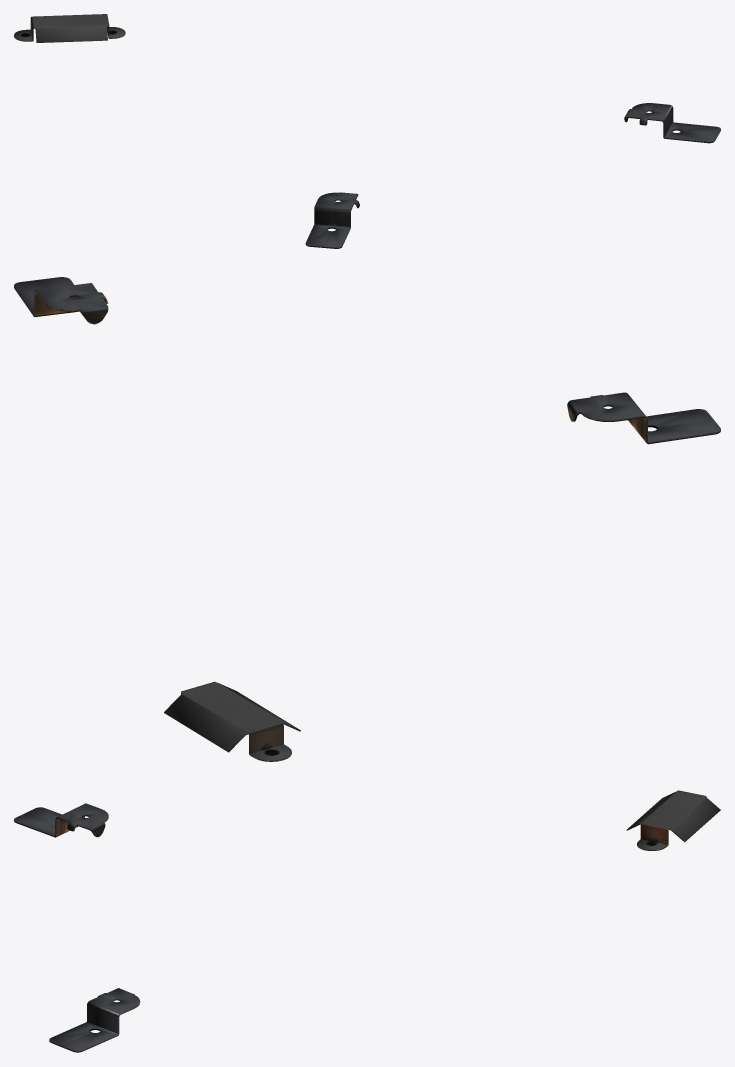
The model's file is gates.fbx.
3 renders of one model, top to bottom at view 1: azimuth 30°, elevation 25°; view 2: azimuth 150°, elevation 25°; view 3: azimuth 270°, elevation 25°, orthographic. The views are drawn at different scales.
Parts seen in each view (by area): view 1: gates; view 2: gates; view 3: gates.
Part boxes in pixels (x1,y1,x2,y2): gates: (14,14,720,248); gates: (14,277,720,761); gates: (14,790,720,1052).
Bounding box in the file's own units: 40.23 × 1.61 × 48.27.
Materials: 1 (1 with a texture image).
